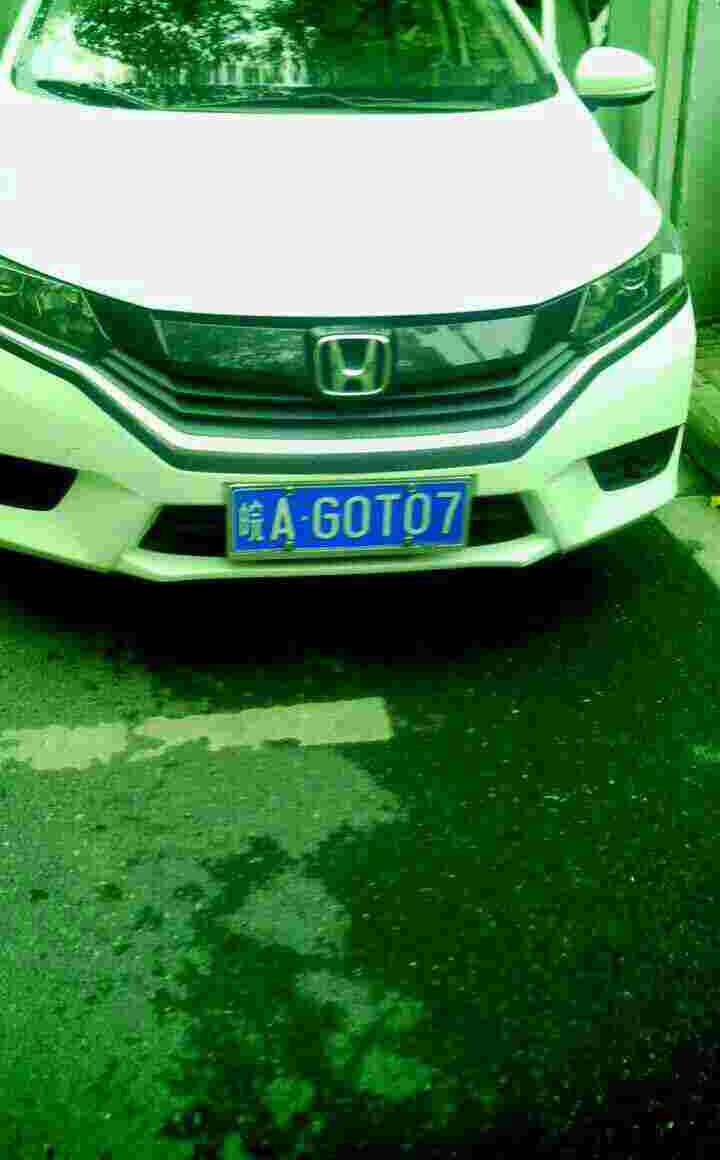license_plate: (232, 487, 470, 555)
